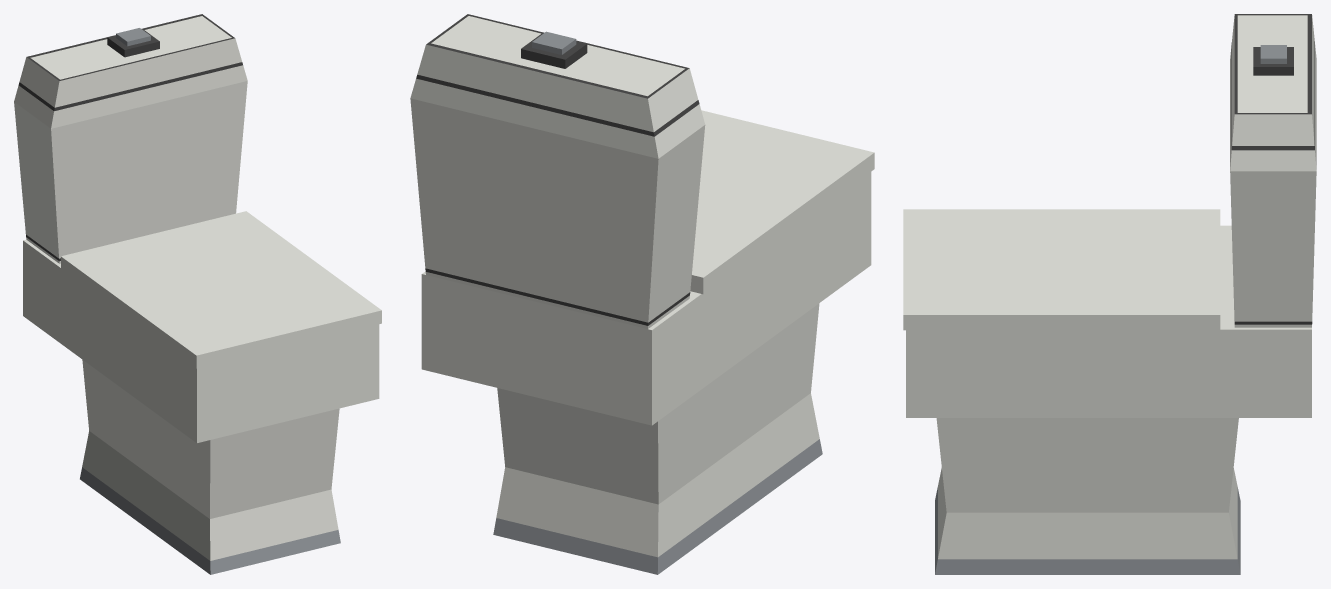
The model's file is Toilet_Seat_1.fbx.
The picture shows the model from 3 angles, left to right: view 1: azimuth 30°, elevation 25°; view 2: azimuth 150°, elevation 25°; view 3: azimuth 270°, elevation 25°; orthographic projection. The views are drawn at different scales.
Parts seen in each view (by area): view 1: polySurface1805; view 2: polySurface1805; view 3: polySurface1805.
Part boxes in pixels (bbox=[...]): polySurface1805: bbox=[14, 14, 381, 574]; polySurface1805: bbox=[410, 14, 874, 574]; polySurface1805: bbox=[903, 14, 1316, 574].
Size of the model in its own units: 0.7834 by 1.59 by 1.22.
1 material, 1 textured.
